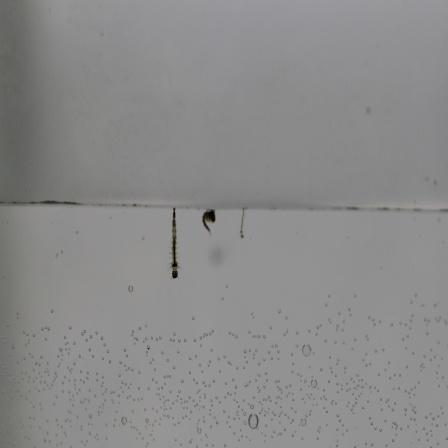Jentik-Nyamuk: (163, 206, 184, 284), (199, 206, 219, 238), (237, 205, 249, 243)
